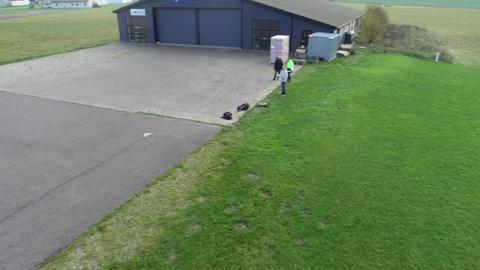RockwoolPallet: (271, 34, 290, 63)
